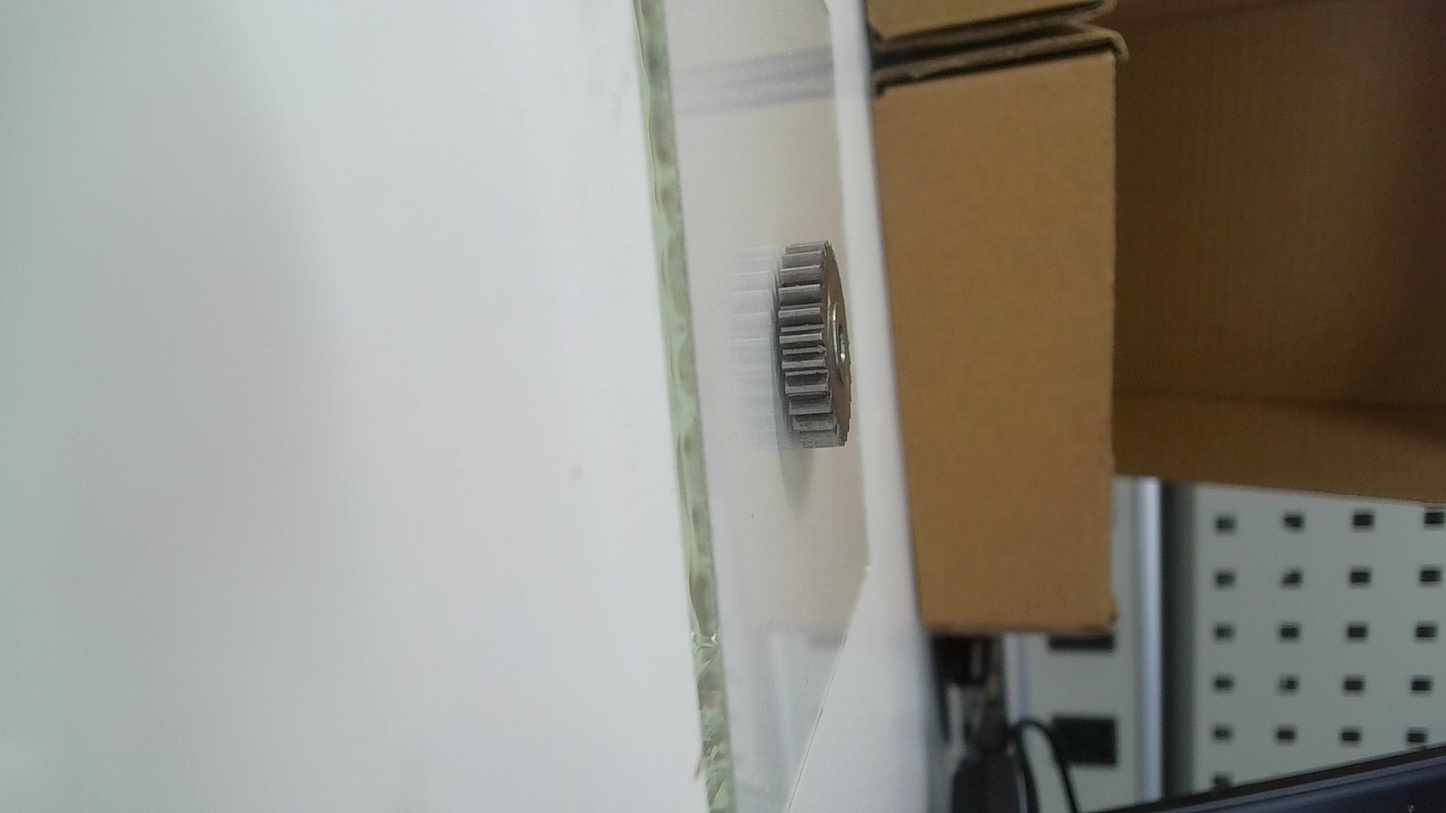gear: (771, 238, 859, 455)
